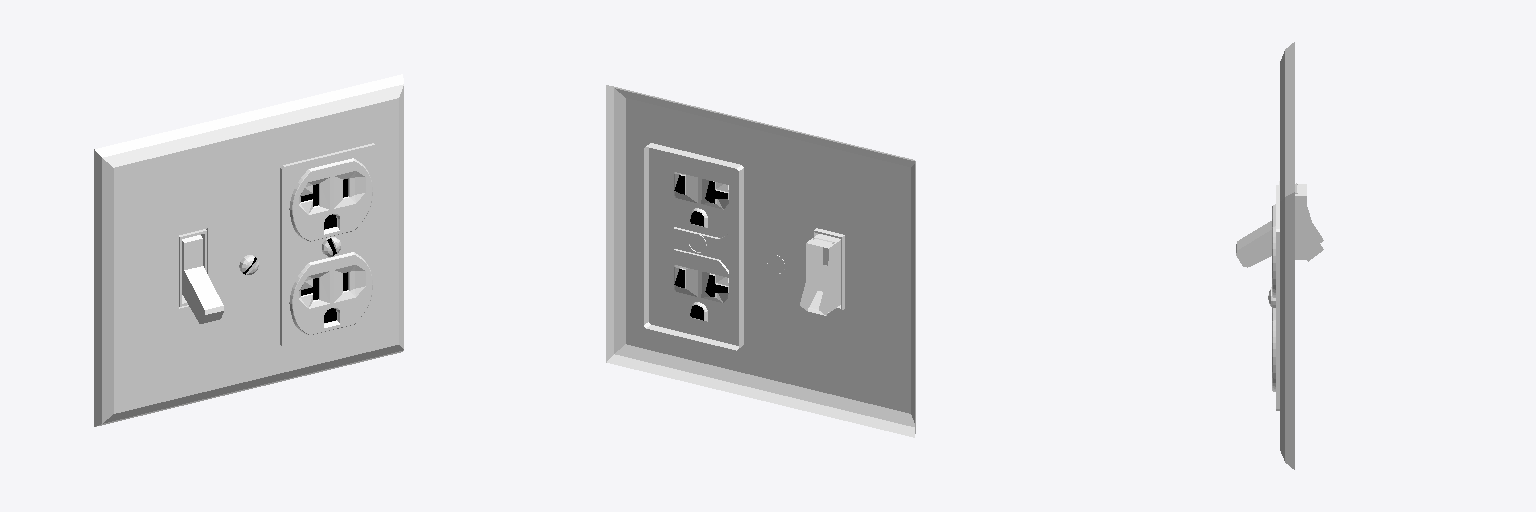
File: lightswitch.obj
3 renders of one model, left to right at view 1: azimuth 30°, elevation 25°; view 2: azimuth 150°, elevation 25°; view 3: azimuth 270°, elevation 25°, orthographic.
Parts seen in each view (by area): view 1: Object02; view 2: Object02; view 3: Object02.
Part boxes in pixels (x1,y1,x2,y2): Object02: (94, 74, 403, 426); Object02: (606, 85, 915, 437); Object02: (1236, 42, 1323, 469).
Size of the model in its own units: 8.17 by 7.03 by 2.02.